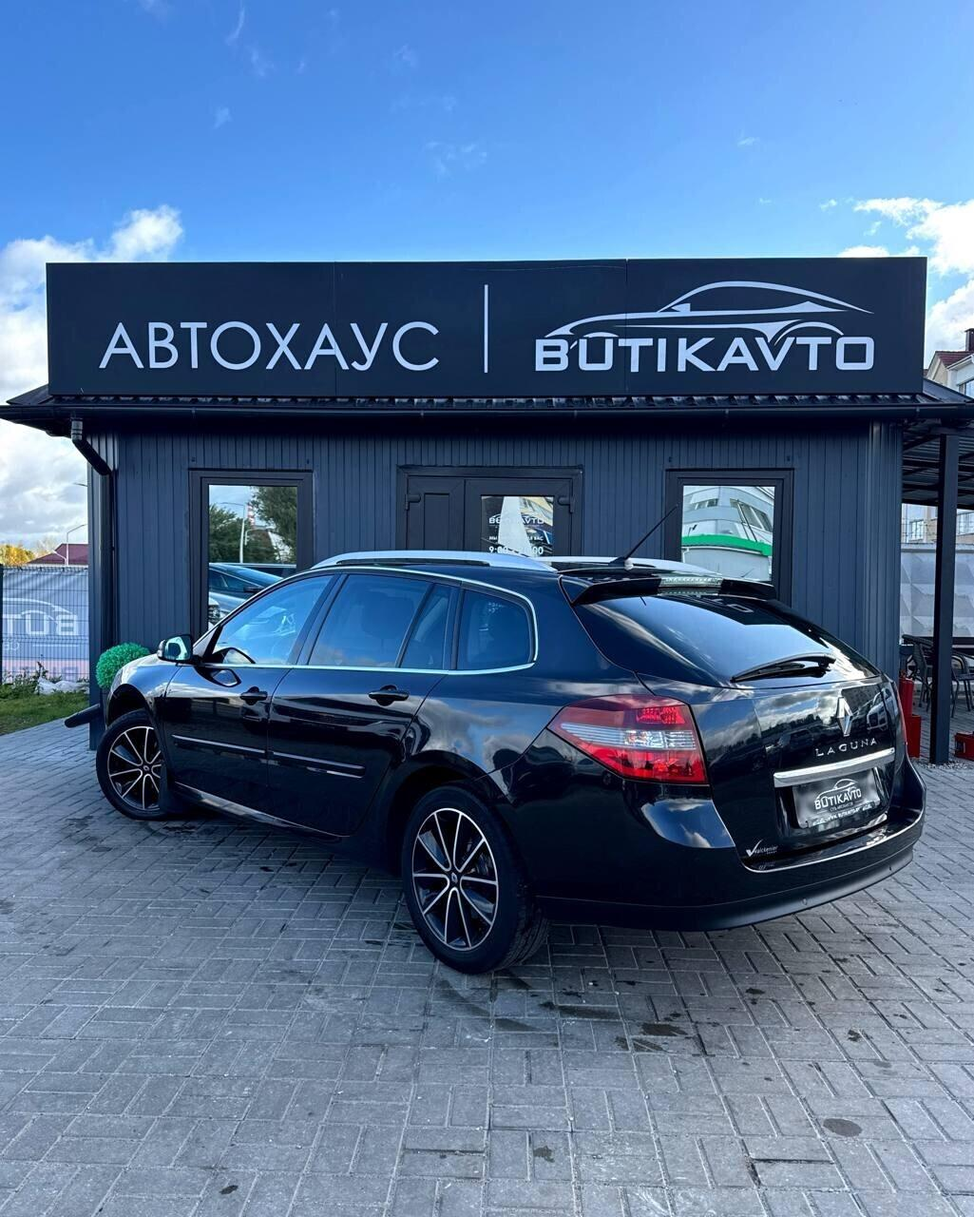Laguna_2010-2015: (92, 534, 931, 981)
